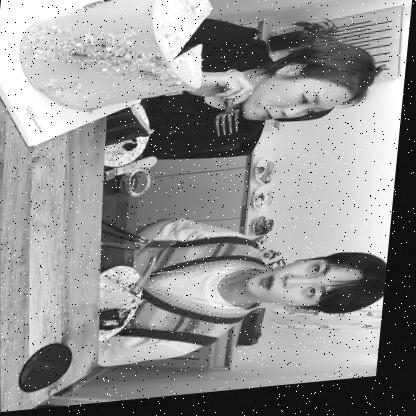streamer: (103, 204, 398, 372), (140, 6, 395, 164)
